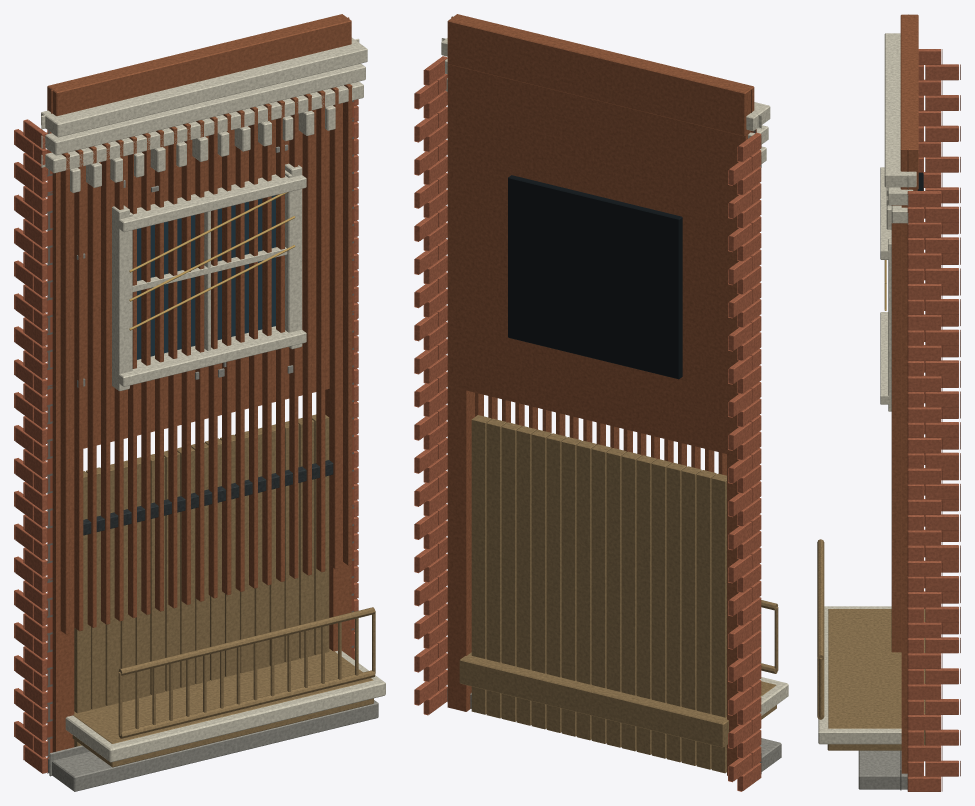
File: WHSE17_lod0.glb
3 views of the same model, side by side, from view 1: azimuth 30°, elevation 25°; view 2: azimuth 150°, elevation 25°; view 3: azimuth 270°, elevation 25° (orthographic). The views are drawn at different scales.
Parts seen in each view (by area): view 1: WHSE17_FRONT_LOD0; view 2: WHSE17_FRONT_LOD0; view 3: WHSE17_FRONT_LOD0.
Part boxes in pixels (x1,y1,x2,y2): WHSE17_FRONT_LOD0: [14, 14, 385, 791]; WHSE17_FRONT_LOD0: [414, 14, 788, 791]; WHSE17_FRONT_LOD0: [817, 14, 960, 791].
Bounding box in the file's own units: 3.44 × 7.05 × 1.43.
Materials: 13 (10 with a texture image).
